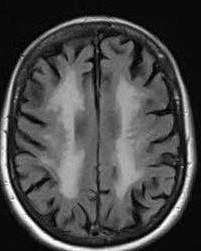Normal_Brain: (1, 5, 201, 251)
